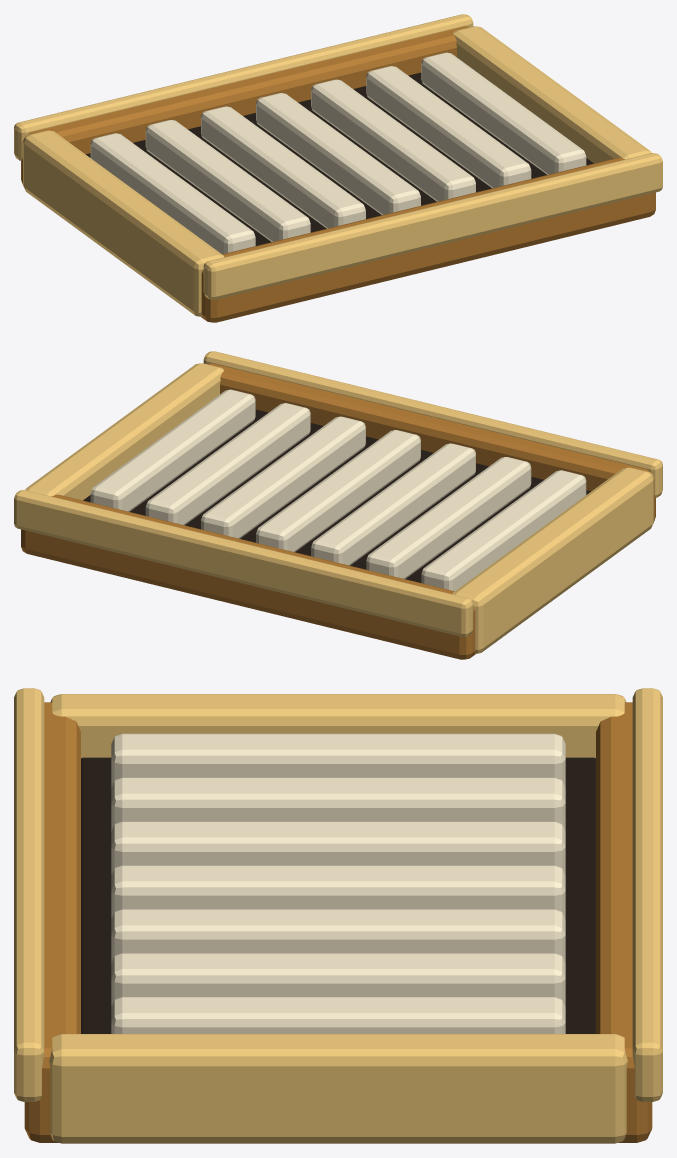
The model's file is ponte.glb.
3 views of the same model, one above another, from view 1: azimuth 30°, elevation 25°; view 2: azimuth 150°, elevation 25°; view 3: azimuth 270°, elevation 25° (orthographic). The views are drawn at different scales.
Parts seen in each view (by area): view 1: Malha_Ponte; view 2: Malha_Ponte; view 3: Malha_Ponte.
Boxes of the visible parts, x1,y1,x2,y2 form: Malha_Ponte: (14,14,662,322); Malha_Ponte: (14,351,662,659); Malha_Ponte: (14,688,662,1143).
Size of the model in its own units: 2 by 0.275 by 1.5.
